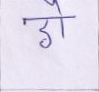au_matra: (49, 1, 70, 37)
